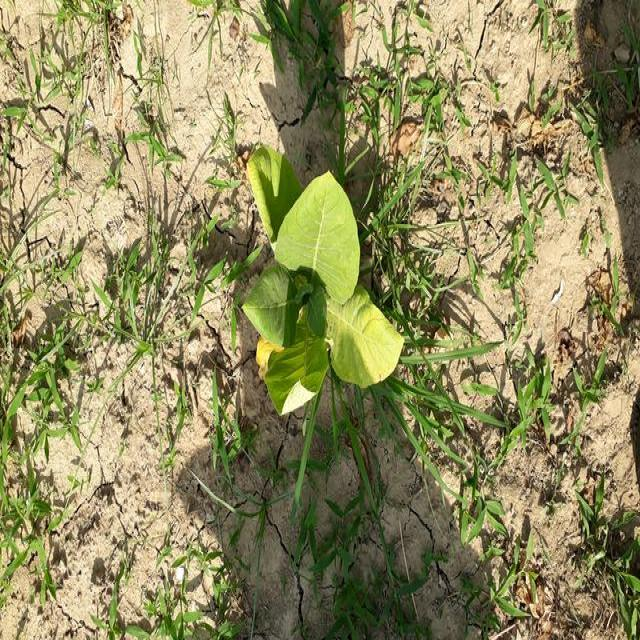crop: (242, 136, 403, 416)
